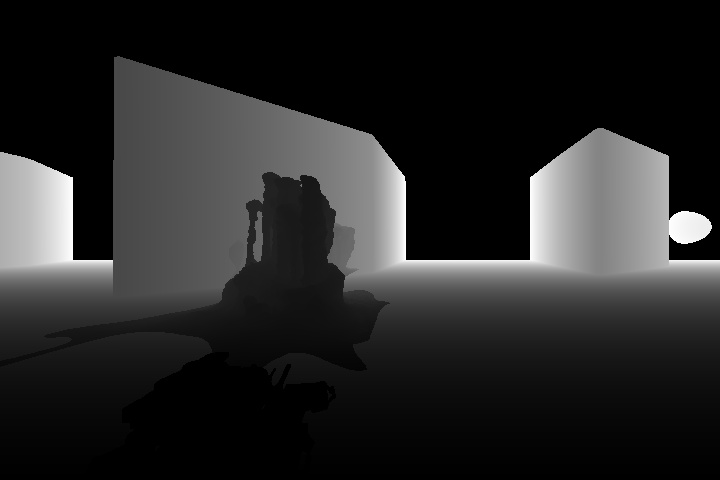green rock: (196, 169, 392, 352)
mushroom: (668, 208, 714, 246)
